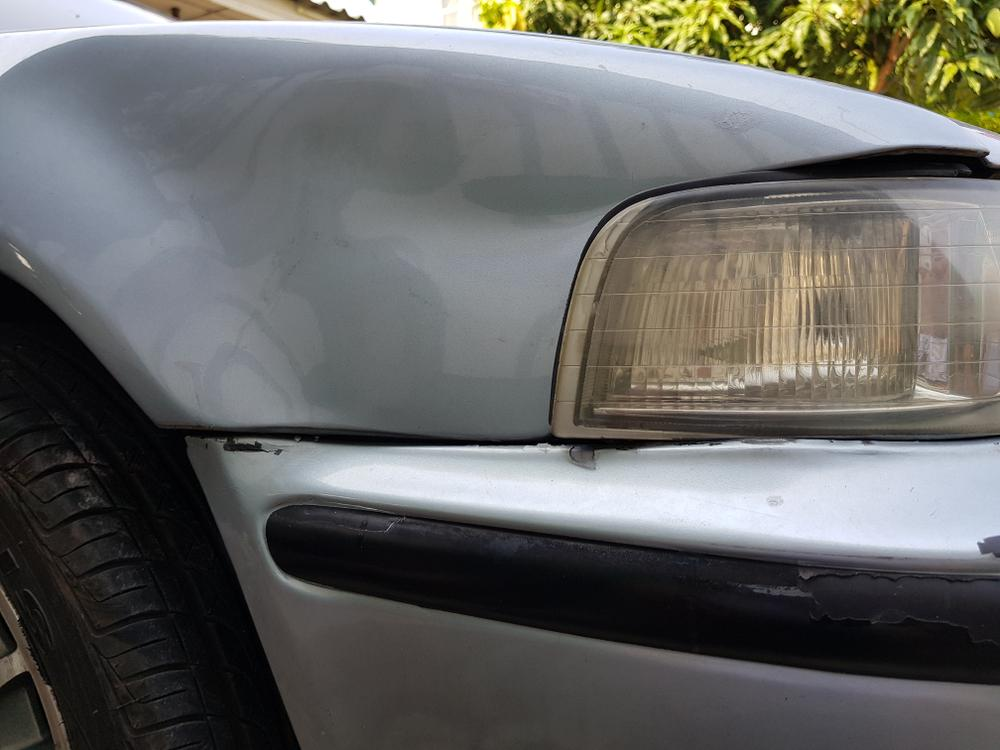dent: (0, 34, 703, 439)
